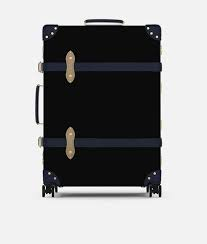suitcase: (32, 17, 166, 197)
